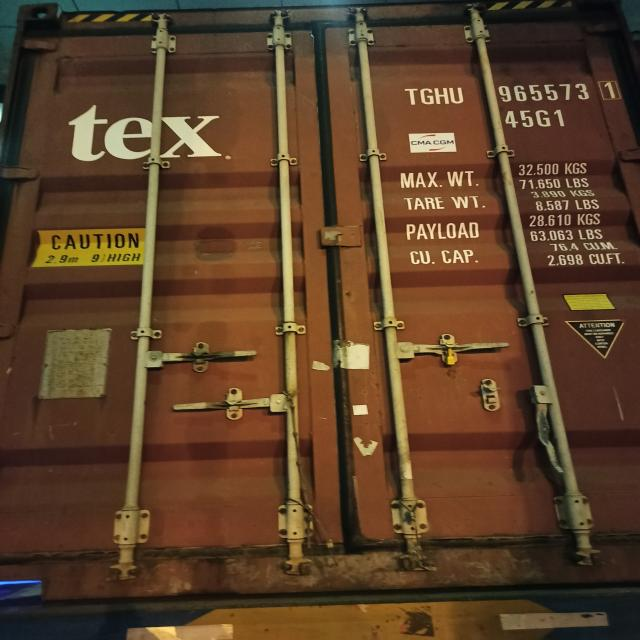seal: (443, 340, 458, 366)
